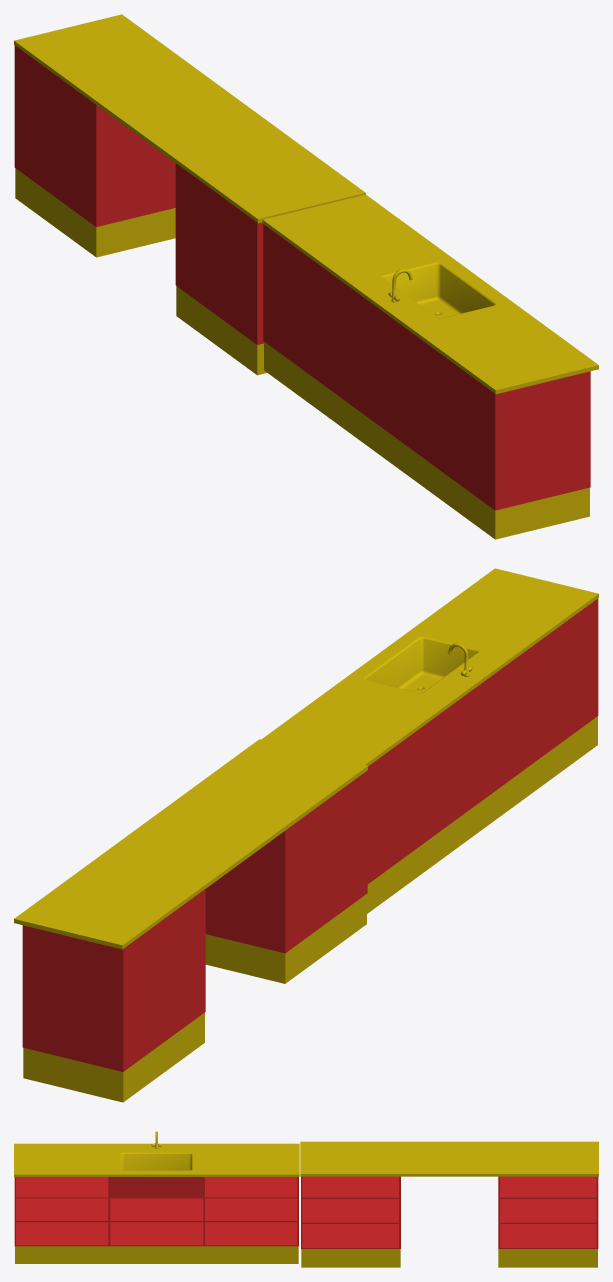
Rendered from kitchen_counter.fbx.
The picture shows the model from 3 angles, top to bottom: view 1: azimuth 30°, elevation 25°; view 2: azimuth 150°, elevation 25°; view 3: azimuth 270°, elevation 25°; orthographic projection. The views are drawn at different scales.
Parts seen in each view (by area): view 1: HSHP_MOD_Kitchen_counter_01, HSHP_MOD_Kitchen_counter_02; view 2: HSHP_MOD_Kitchen_counter_02, HSHP_MOD_Kitchen_counter_01; view 3: HSHP_MOD_Kitchen_counter_01, HSHP_MOD_Kitchen_counter_02.
Boxes of the visible parts, <box> form: HSHP_MOD_Kitchen_counter_01: <box>262,194,598,539</box>; HSHP_MOD_Kitchen_counter_02: <box>14,14,365,375</box>; HSHP_MOD_Kitchen_counter_02: <box>14,739,367,1102</box>; HSHP_MOD_Kitchen_counter_01: <box>261,568,598,913</box>; HSHP_MOD_Kitchen_counter_01: <box>14,1131,299,1263</box>; HSHP_MOD_Kitchen_counter_02: <box>300,1141,598,1267</box>.
Bounding box in the file's own units: 24.76 × 40.71 × 190.
